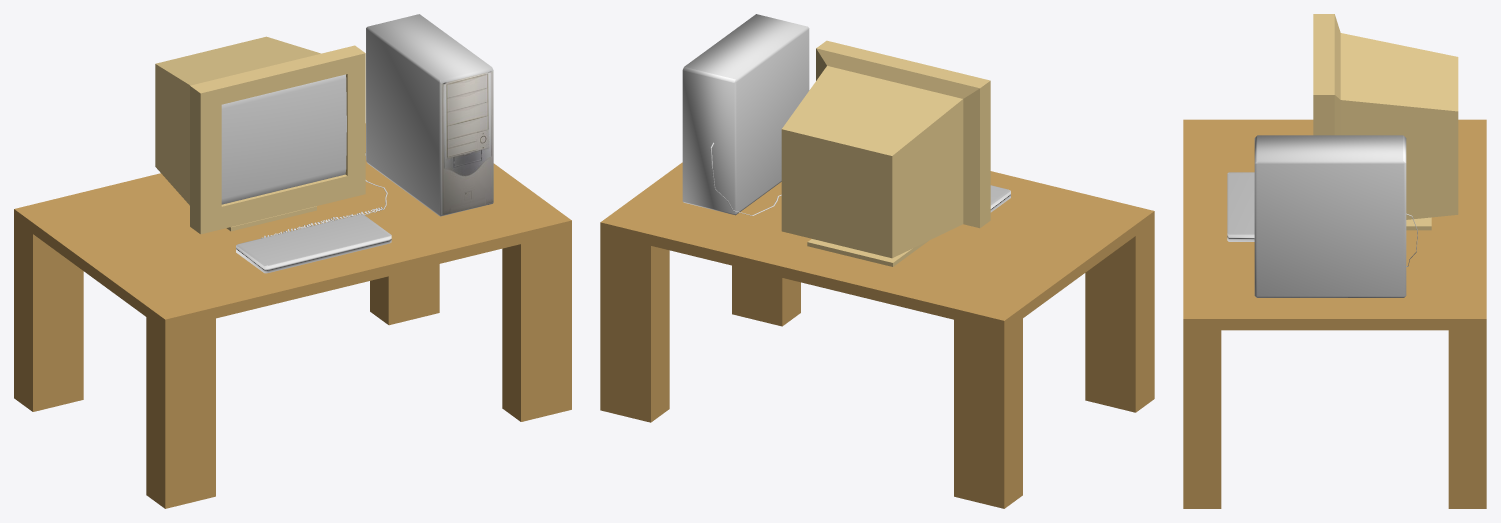
Rendered from oldpc_colortweak.fbx.
3 views of the same model, side by side, from view 1: azimuth 30°, elevation 25°; view 2: azimuth 150°, elevation 25°; view 3: azimuth 270°, elevation 25° (orthographic).
Visible parts, largest first — view 1: Cube.004, Monitor, Cube.002, Cube.003; view 2: Cube.004, Monitor, Cube.002; view 3: Cube.004, Cube.002, Monitor, Cube.003.
Boxes of the visible parts, <box> form: Cube.004: <box>14,123,571,508</box>; Monitor: <box>155,36,365,234</box>; Cube.002: <box>366,14,493,216</box>; Cube.003: <box>236,214,391,273</box>; Cube.004: <box>600,162,1154,508</box>; Monitor: <box>781,40,990,266</box>; Cube.002: <box>682,14,809,215</box>; Cube.004: <box>1183,119,1486,508</box>; Cube.002: <box>1254,135,1406,297</box>; Monitor: <box>1313,14,1458,230</box>; Cube.003: <box>1227,172,1254,241</box>.
Bounding box in the file's own units: 622 × 502 × 400.
